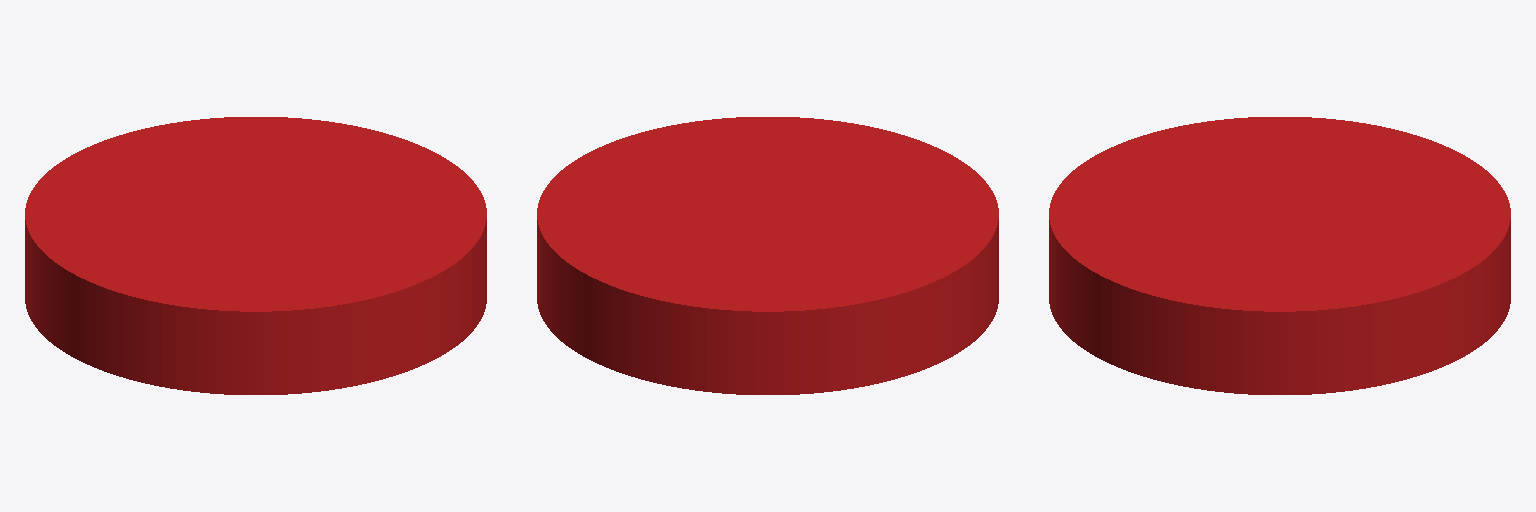
The model's file is layer_light.mtl.obj.
The picture shows the model from 3 angles: view 1: azimuth 30°, elevation 25°; view 2: azimuth 150°, elevation 25°; view 3: azimuth 270°, elevation 25°; orthographic projection.
Parts seen in each view (by area): view 1: Cylinder; view 2: Cylinder; view 3: Cylinder.
Boxes of the visible parts, <box> form: Cylinder: <box>25,117,486,394</box>; Cylinder: <box>537,117,998,394</box>; Cylinder: <box>1049,117,1510,394</box>.
Bounding box in the file's own units: 0.05 × 0.01 × 0.05.